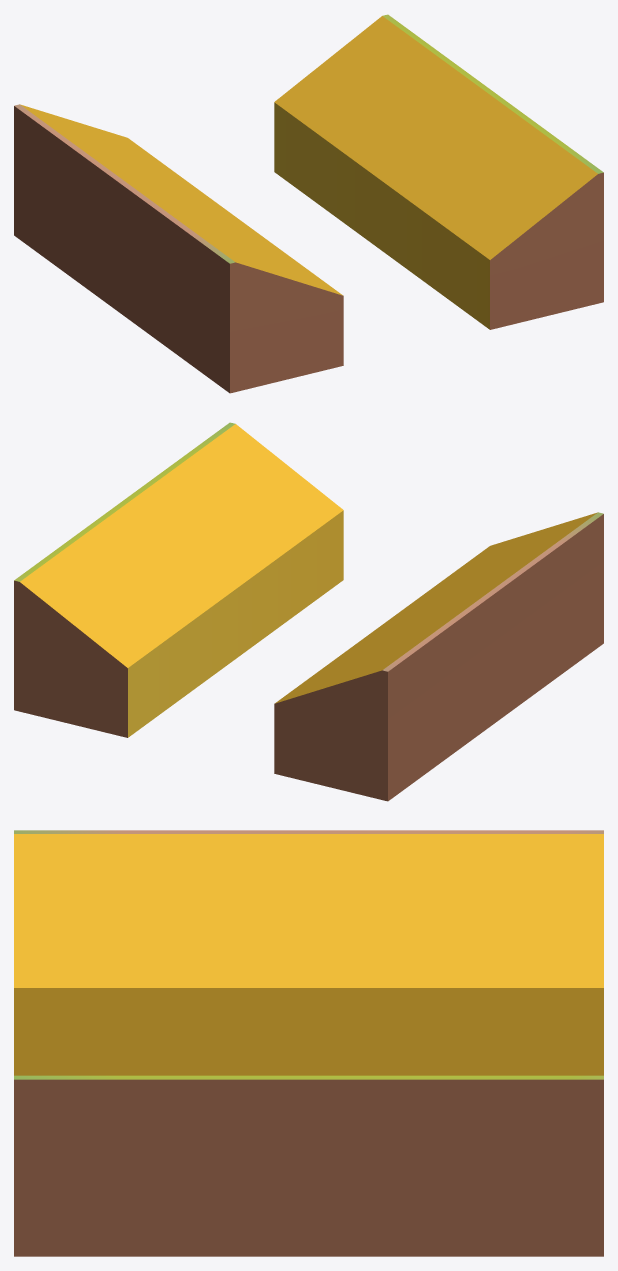
File: Shore.SmallParallel.Vert.glb
3 renders of one model, top to bottom at view 1: azimuth 30°, elevation 25°; view 2: azimuth 150°, elevation 25°; view 3: azimuth 270°, elevation 25°, orthographic. The views are drawn at different scales.
Visible parts, largest first — view 1: Shore.SmallParallel.Vert; view 2: Shore.SmallParallel.Vert; view 3: Shore.SmallParallel.Vert.
Boxes of the visible parts, box(x1,y1,x2,y2) form: Shore.SmallParallel.Vert: box(14, 14, 603, 393); Shore.SmallParallel.Vert: box(14, 422, 603, 801); Shore.SmallParallel.Vert: box(14, 830, 603, 1256).
Size of the model in its own units: 3 by 0.9943 by 3.
Materials: 1 (1 with a texture image).
